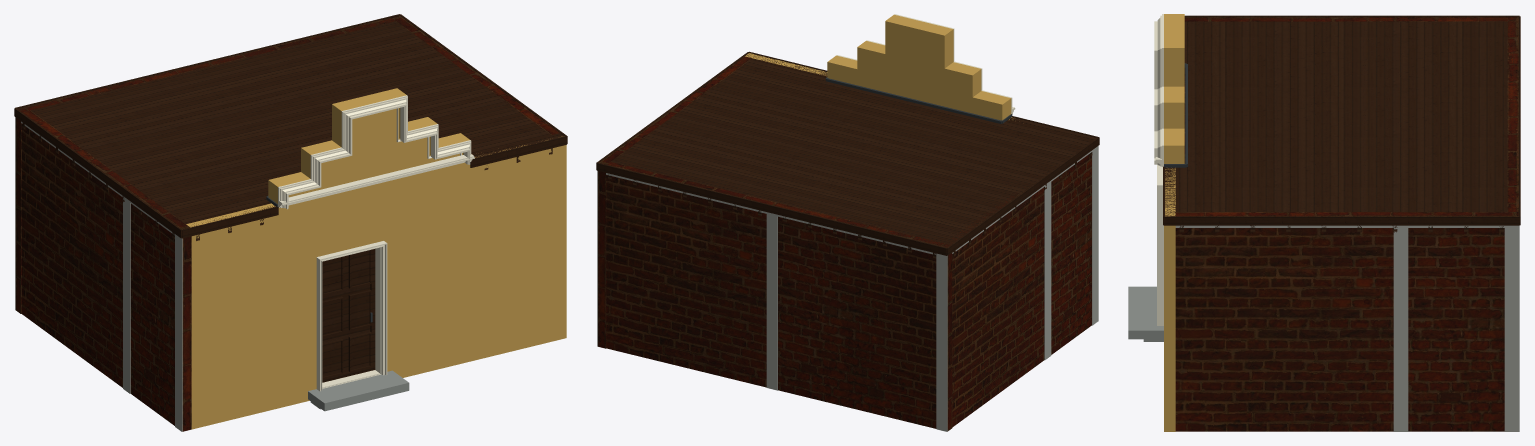
The model's file is building.glb.
The picture shows the model from 3 angles, left to right: view 1: azimuth 30°, elevation 25°; view 2: azimuth 150°, elevation 25°; view 3: azimuth 270°, elevation 25°; orthographic projection. The views are drawn at different scales.
Visible parts, largest first — view 1: house:0/edge0/z0/house:0/edge0/z0/wall_0_0, roof_assembly/cubierta/roof_substrate#0001, house:0/edge3/z0/house:0/edge3/z0/wall_0_0, crown/fronton/crown_body#0001, crown/fronton/crown_moulding#0001, house:0/edge2/z0/house:0/edge2/z0/wall_0_0, site/entrance/0/entrance_step#0002, roof_assembly/cubierta/roof_fascia#0002, crown/fronton/crown_base_cornice#0001, house:0/edge3/z0/house:0/edge3/z0/column_1_0, house:0/edge3/z0/house:0/edge3/z0/column_2_0, house:0/edge1/z0/house:0/edge1/z0/wall_0_0 (+14 smaller); view 2: house:0/edge2/z0/house:0/edge2/z0/wall_0_0, roof_assembly/cubierta/roof_substrate#0001, house:0/edge3/z0/house:0/edge3/z0/wall_0_0, crown/fronton/crown_body#0001, roof_assembly/cubierta/roof_fascia#0001, house:0/edge1/z0/house:0/edge1/z0/wall_0_0, house:0/edge2/z0/house:0/edge2/z0/column_1_0, house:0/edge2/z0/house:0/edge2/z0/column_2_0, roof_assembly/cubierta/roof_fascia#0002, house:0/edge3/z0/house:0/edge3/z0/column_2_0, house:0/edge3/z0/house:0/edge3/z0/column_1_0, house:0/edge2/z0/house:0/edge2/z0/beam_0_0 (+1 smaller); view 3: house:0/edge1/z0/house:0/edge1/z0/wall_0_0, roof_assembly/cubierta/roof_substrate#0001, roof_assembly/cubierta/roof_fascia#0005, house:0/edge1/z0/house:0/edge1/z0/column_1_0, house:0/edge1/z0/house:0/edge1/z0/column_2_0, house:0/edge0/z0/house:0/edge0/z0/wall_0_0, crown/fronton/crown_body#0001, house:0/edge2/z0/house:0/edge2/z0/wall_0_0, house:0/edge3/z0/house:0/edge3/z0/wall_0_0, site/entrance/0/entrance_step#0002, crown/fronton/crown_moulding#0001, house:0/edge0/z0/opening_u2.80_v0.12/door_moulding#0028 (+4 smaller).
Part boxes in pixels (x1,y1,x2,y2): house:0/edge0/z0/house:0/edge0/z0/wall_0_0: (186,136,566,429); roof_assembly/cubierta/roof_substrate#0001: (17,17,563,228); house:0/edge3/z0/house:0/edge3/z0/wall_0_0: (21,110,191,431); crown/fronton/crown_body#0001: (268,88,468,202); crown/fronton/crown_moulding#0001: (278,95,471,209); house:0/edge2/z0/house:0/edge2/z0/wall_0_0: (15,17,395,313); site/entrance/0/entrance_step#0002: (308,370,409,411); roof_assembly/cubierta/roof_fascia#0002: (14,108,181,238); crown/fronton/crown_base_cornice#0001: (278,154,474,207); house:0/edge3/z0/house:0/edge3/z0/column_1_0: (175,236,182,431); house:0/edge3/z0/house:0/edge3/z0/column_2_0: (123,198,130,393); house:0/edge1/z0/house:0/edge1/z0/wall_0_0: (391,15,559,134); house:0/edge2/z0/house:0/edge2/z0/wall_0_0: (606,162,952,431); roof_assembly/cubierta/roof_substrate#0001: (611,53,1096,247); house:0/edge3/z0/house:0/edge3/z0/wall_0_0: (947,154,1091,427); crown/fronton/crown_body#0001: (827,15,1009,120); roof_assembly/cubierta/roof_fascia#0001: (596,162,947,255); house:0/edge1/z0/house:0/edge1/z0/wall_0_0: (598,56,751,348); house:0/edge2/z0/house:0/edge2/z0/column_1_0: (936,255,947,431); house:0/edge2/z0/house:0/edge2/z0/column_2_0: (766,214,777,390); roof_assembly/cubierta/roof_fascia#0002: (947,137,1099,255); house:0/edge3/z0/house:0/edge3/z0/column_2_0: (1044,182,1051,360); house:0/edge3/z0/house:0/edge3/z0/column_1_0: (1092,147,1098,325); house:0/edge2/z0/house:0/edge2/z0/beam_0_0: (606,173,947,257); house:0/edge1/z0/house:0/edge1/z0/wall_0_0: (1175,212,1518,431); roof_assembly/cubierta/roof_substrate#0001: (1165,17,1518,216); roof_assembly/cubierta/roof_fascia#0005: (1164,216,1519,225); house:0/edge1/z0/house:0/edge1/z0/column_1_0: (1504,228,1519,431); house:0/edge1/z0/house:0/edge1/z0/column_2_0: (1393,228,1408,431); house:0/edge0/z0/house:0/edge0/z0/wall_0_0: (1164,168,1175,431); crown/fronton/crown_body#0001: (1167,14,1184,163); house:0/edge2/z0/house:0/edge2/z0/wall_0_0: (1507,17,1518,211); house:0/edge3/z0/house:0/edge3/z0/wall_0_0: (1184,17,1507,163); site/entrance/0/entrance_step#0002: (1128,286,1163,339); crown/fronton/crown_moulding#0001: (1154,14,1163,166); house:0/edge0/z0/opening_u2.80_v0.12/door_moulding#0028: (1157,164,1163,325).
Size of the model in its own units: 8.03 by 5.64 by 6.62.
Materials: 8 (2 with a texture image).
